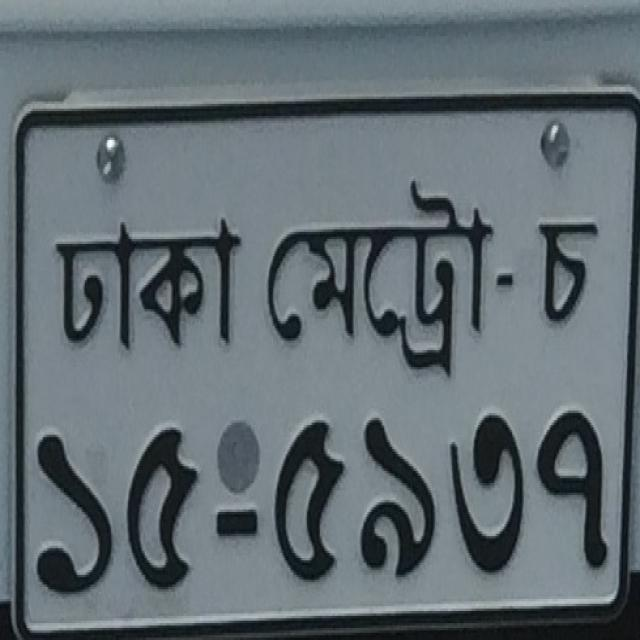numberplate: (7, 85, 637, 634)
